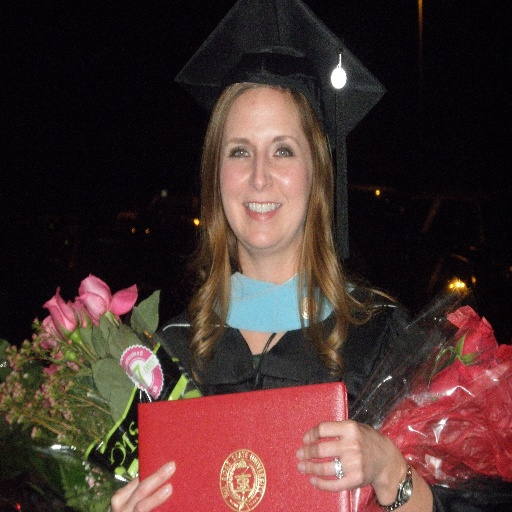hand: (296, 420, 388, 492), (110, 460, 175, 511)
